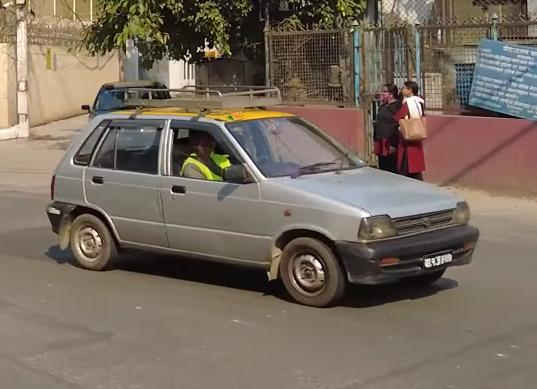taxi: (46, 74, 487, 308)
